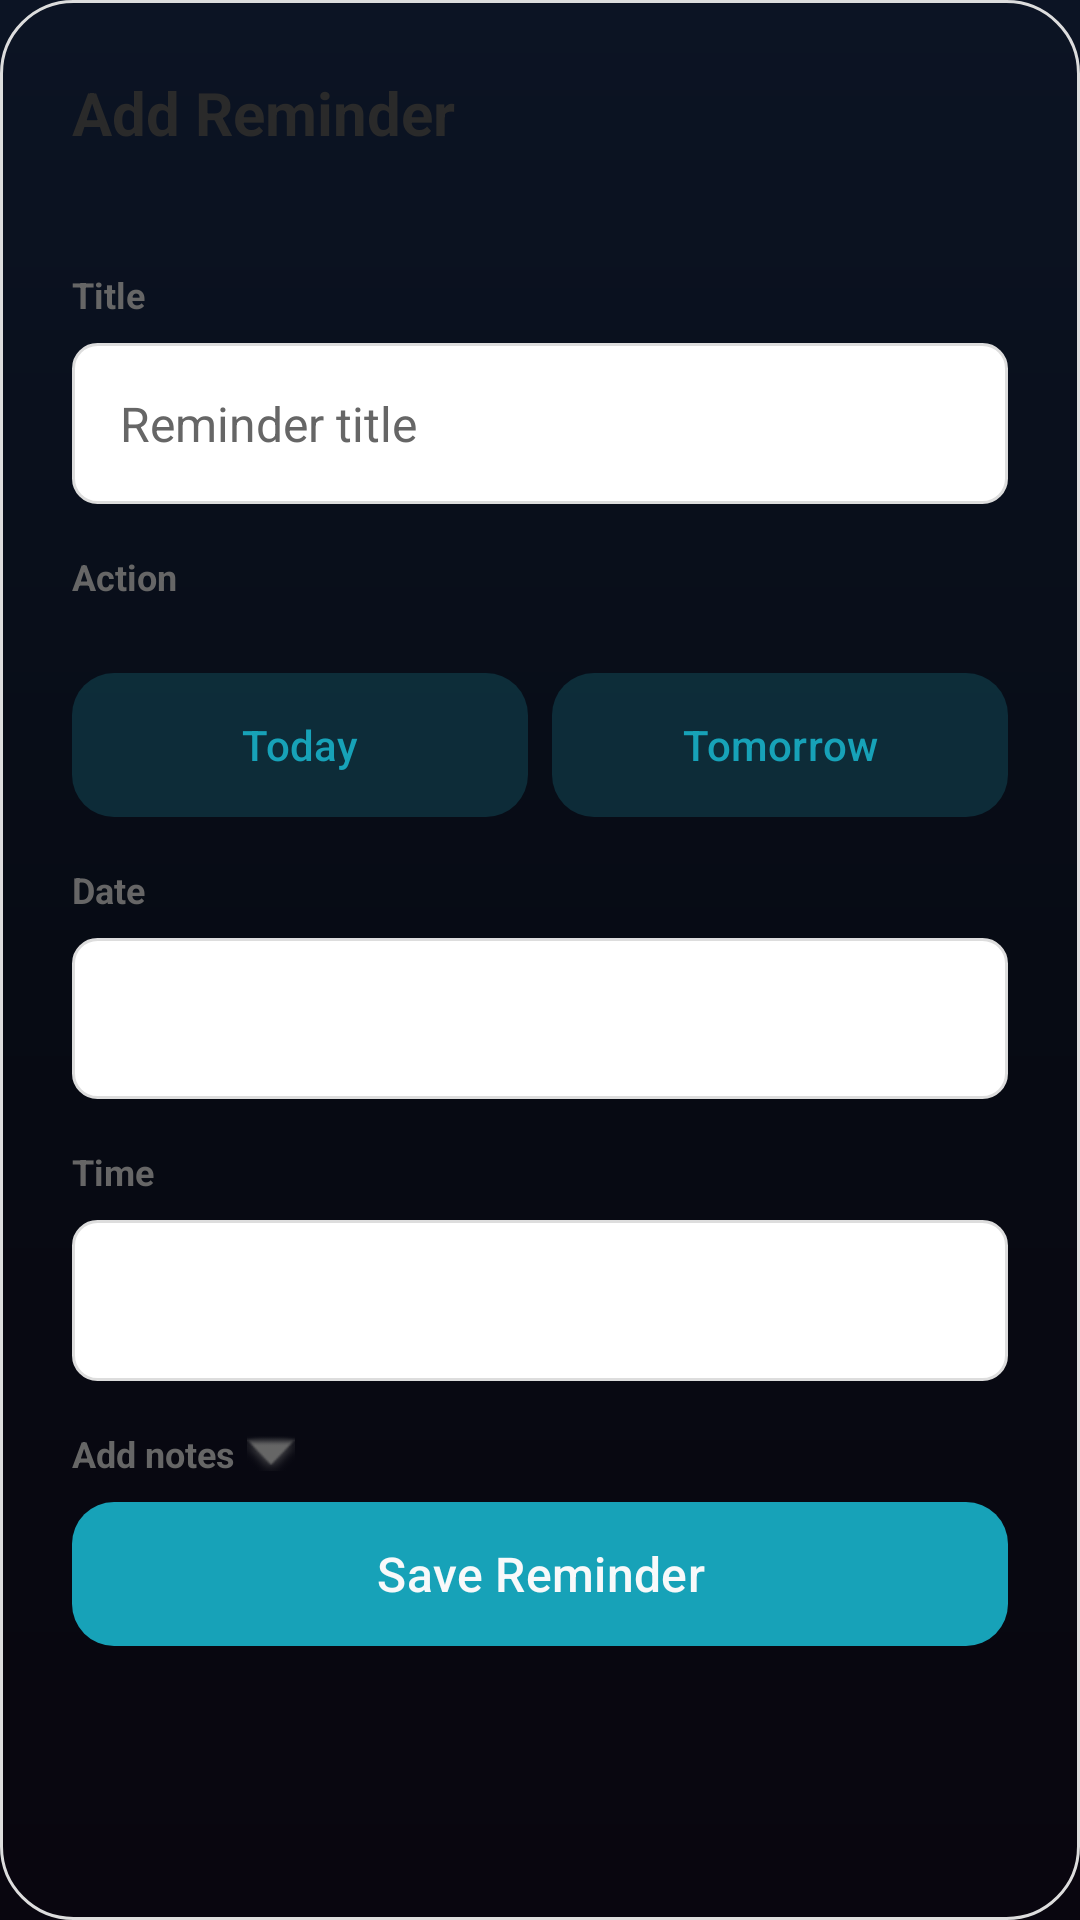

Point at icon controls on the screen. Image size 1080 x 1920, points as point (x, y).
arrow down float: point (271, 1452)
